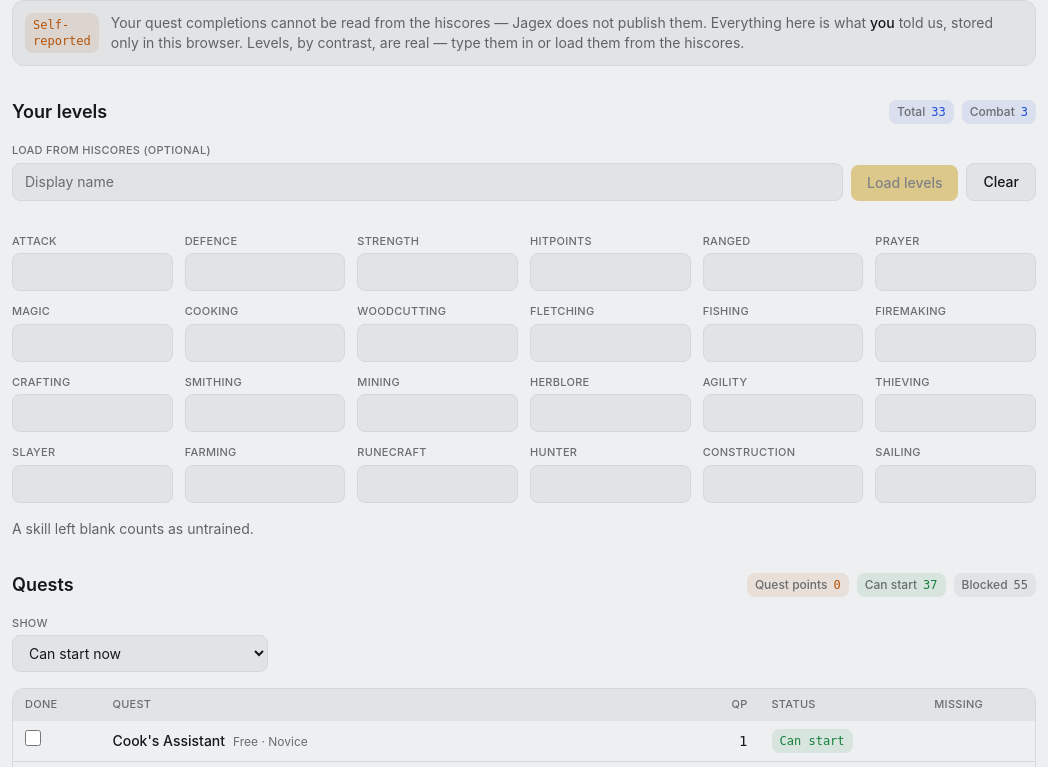
Scenario: QuestPlanner — level entry › rejects abc (not a number) with a message rather than NaN
In the field labelled "Mining": coordinates (438, 413) top-left (357, 394), bottom-right (518, 432), type "abc"
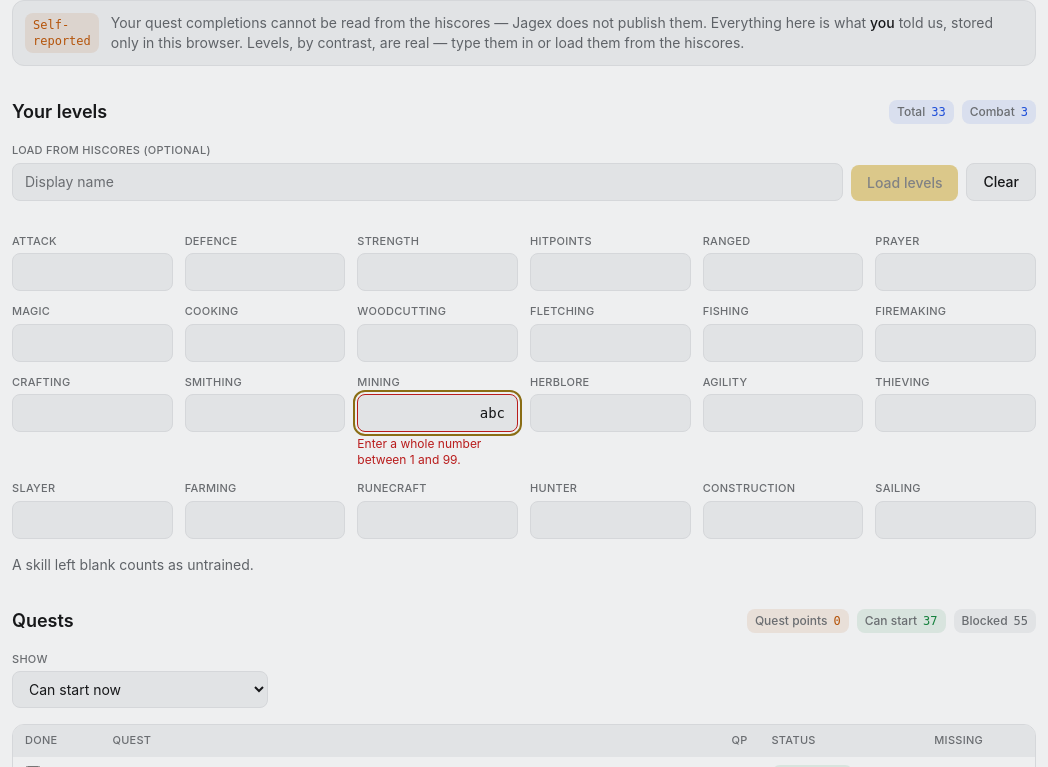
Expected: the text "Enter a whole number between 1 and 99." is shown, top-left (357, 436), bottom-right (481, 467)
